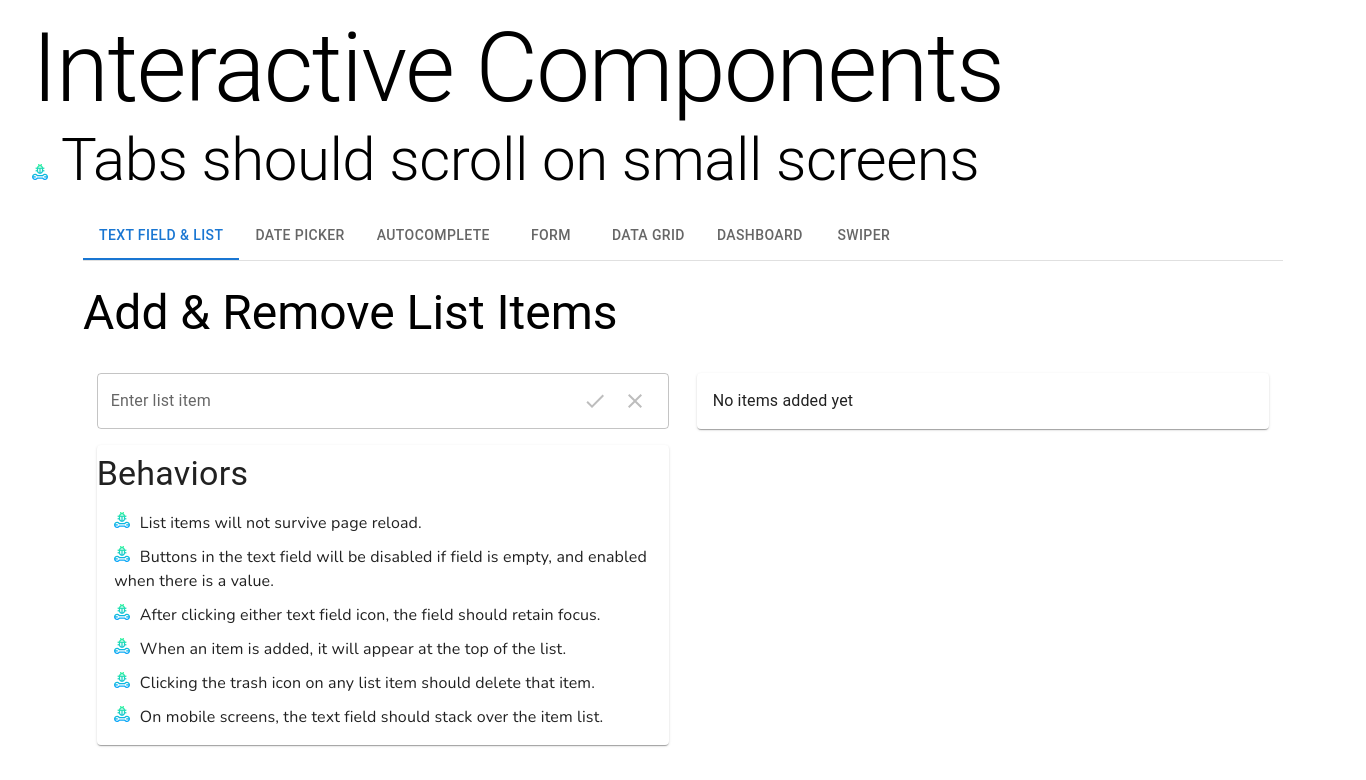
Test case: Main Tab - Text List › should verify add button
The width and height of the screenshot is (1366, 780).
Type "TODO: write e2e tests" into the field labelled "Enter list item" at [332, 401], box x1=97 y1=373 x2=567 y2=429
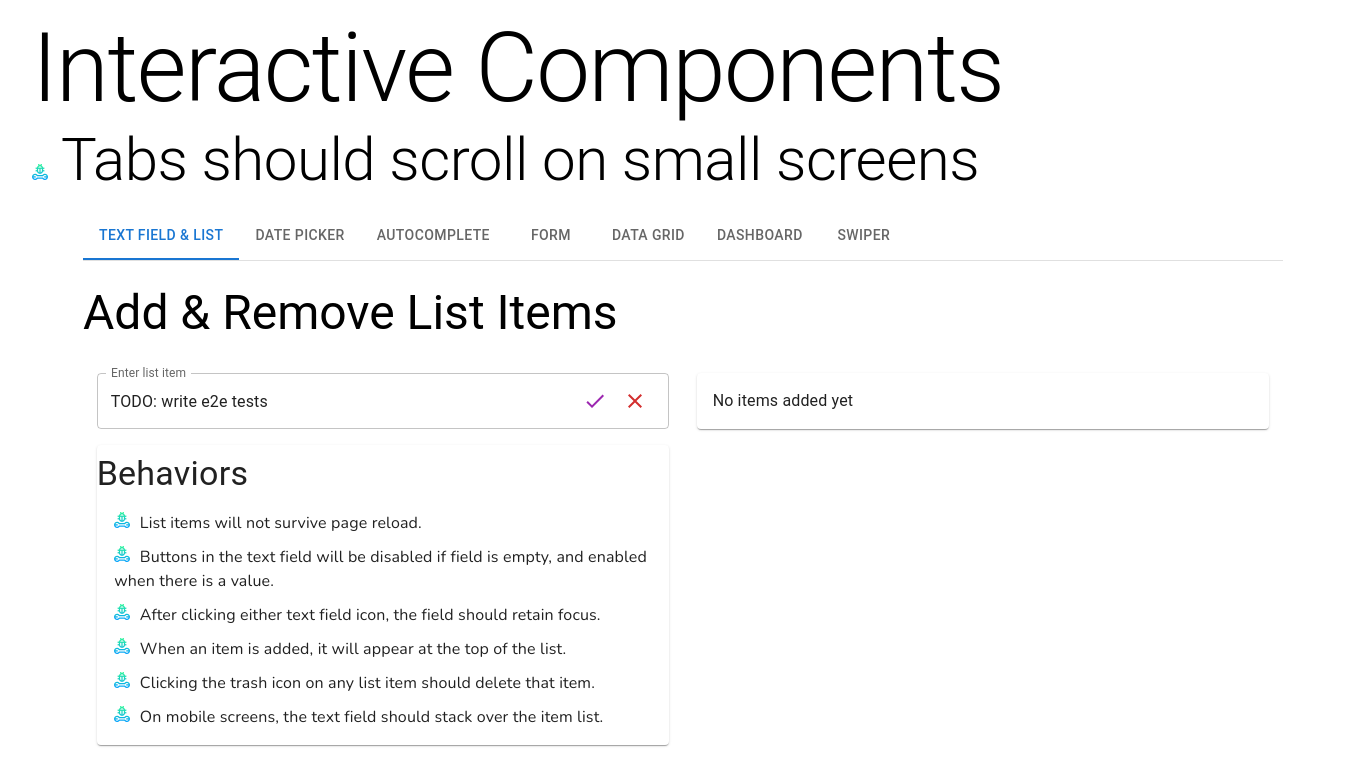
Click the button named "add item" at [595, 401], box x1=575 y1=381 x2=615 y2=421
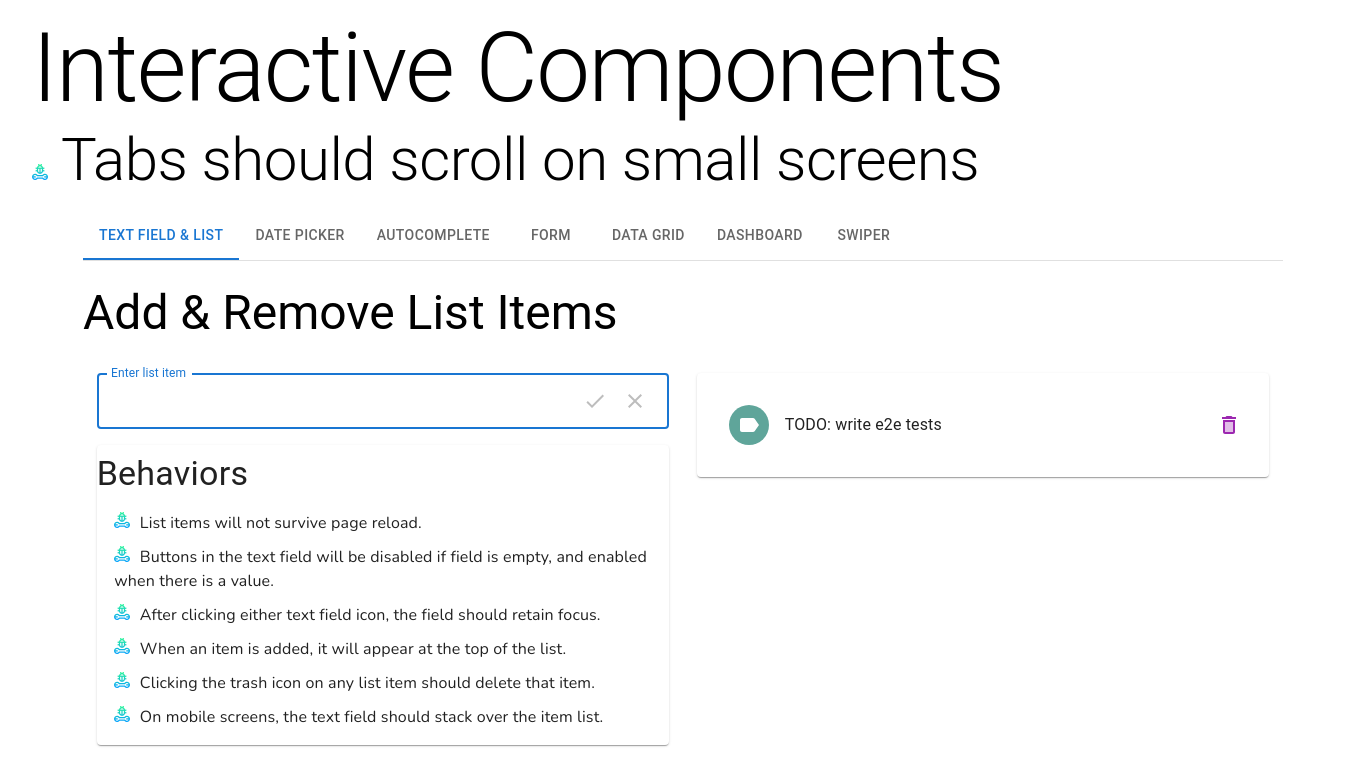
Now the element with test id "mainTabListItem_0" reads "TODO: write e2e tests", box x1=785 y1=415 x2=942 y2=434
